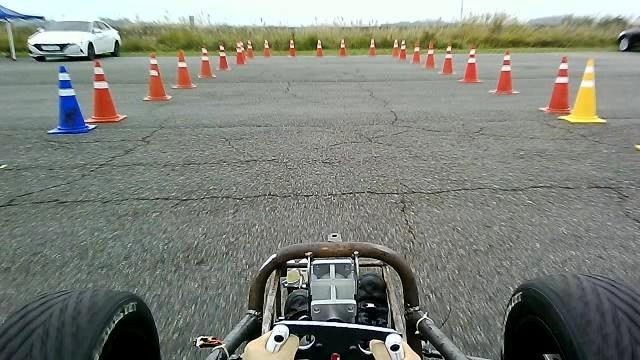blue cone: (46, 64, 97, 134)
red cone: (84, 58, 127, 123), (540, 55, 571, 114), (142, 52, 172, 101), (488, 49, 519, 95), (170, 48, 197, 89), (458, 47, 483, 83), (197, 46, 216, 79), (438, 43, 456, 75), (423, 40, 437, 69), (216, 42, 230, 70), (235, 40, 247, 63), (411, 38, 421, 63), (398, 39, 407, 60), (262, 39, 271, 57), (338, 38, 347, 56), (245, 39, 254, 57), (391, 38, 400, 56), (315, 39, 324, 56), (367, 38, 376, 55), (288, 38, 296, 56)
yellow cone: (575, 58, 606, 123)
